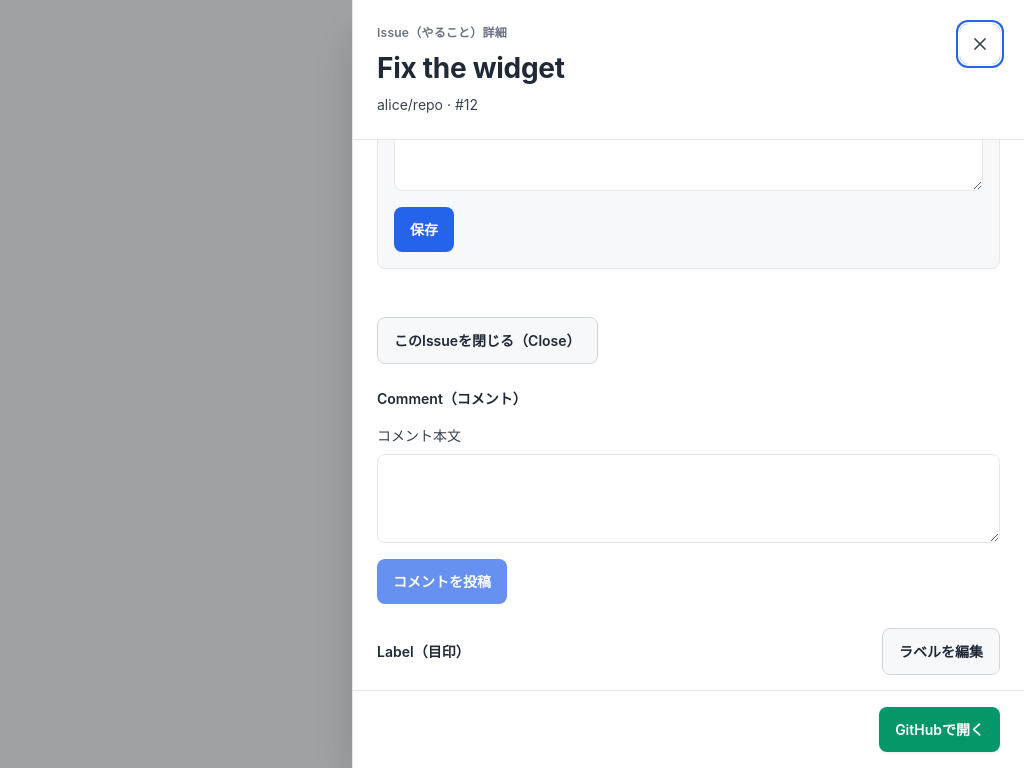
IssueDetailPanel actions › shows a Japanese error and preserves the comment after a write fails
(page scrolled)
Type "Keep this comment" into the text box labelled "コメント本文".
click(688, 498); type("Keep this comment")  # box [377, 454, 1000, 543]
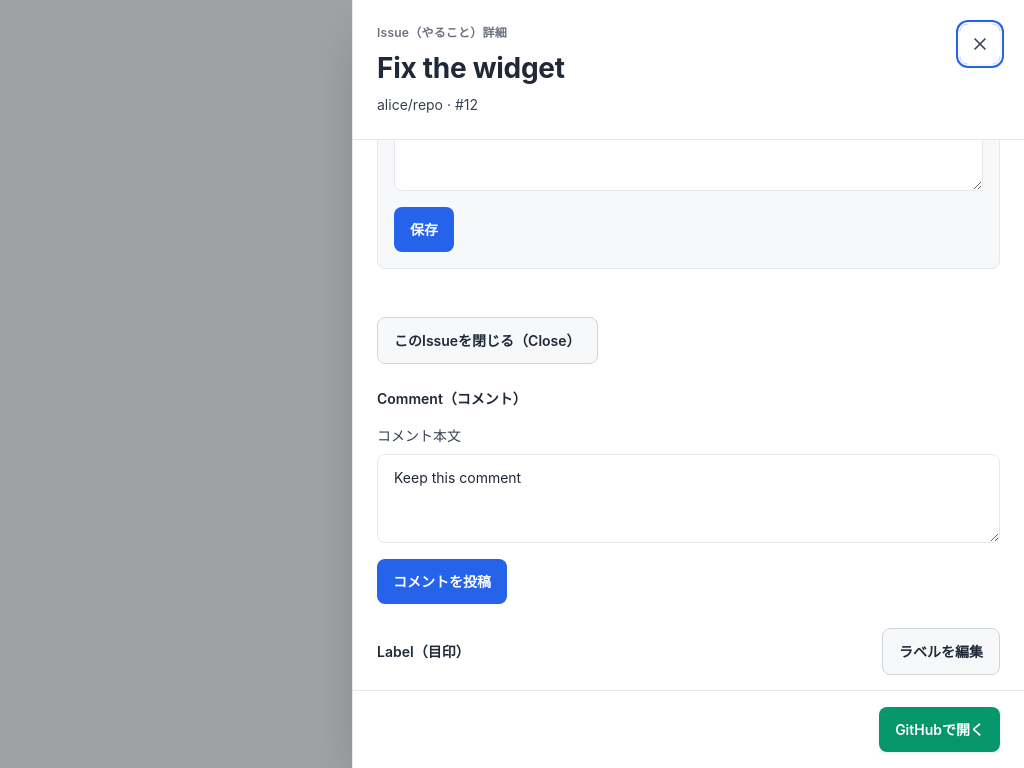
Click the button "コメントを投稿".
click(442, 581)  # box [377, 559, 507, 604]
(page scrolled)
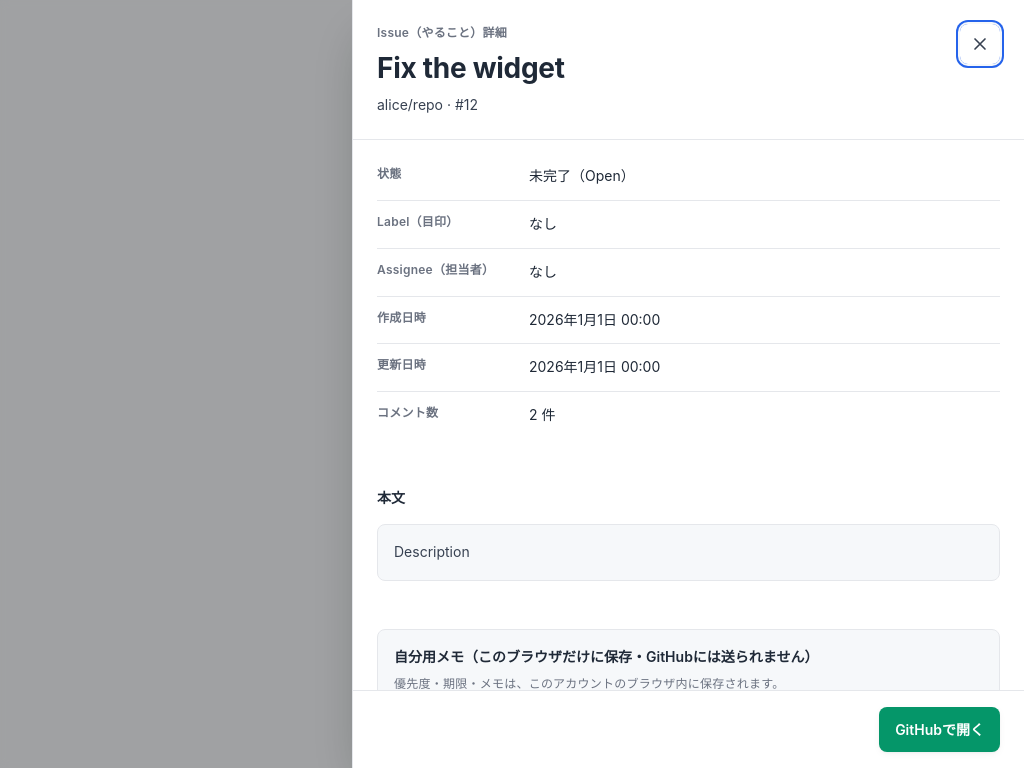
Now the text "2 件" is shown, box [529, 406, 556, 423]
